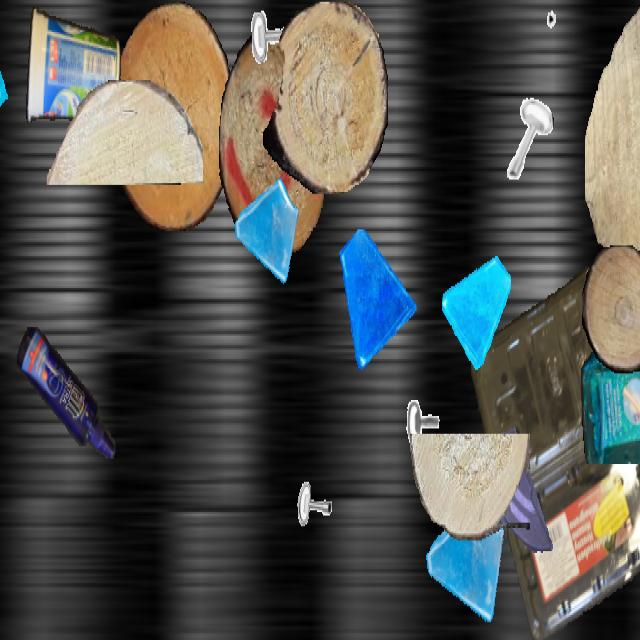glass: (424, 489, 508, 638), (337, 230, 417, 372), (478, 416, 558, 558), (233, 172, 301, 294), (442, 247, 510, 368), (0, 2, 13, 165)
metal: (245, 2, 305, 108), (291, 439, 343, 532), (503, 92, 553, 182), (404, 366, 450, 448), (546, 2, 586, 73), (0, 188, 3, 278)
plastic: (471, 265, 640, 638), (17, 327, 115, 459), (24, 2, 120, 126), (581, 316, 640, 462)
wood: (111, 2, 235, 229), (263, 2, 387, 194), (219, 36, 327, 252), (46, 80, 202, 183), (585, 1, 640, 282), (410, 434, 530, 540), (582, 245, 640, 374)
